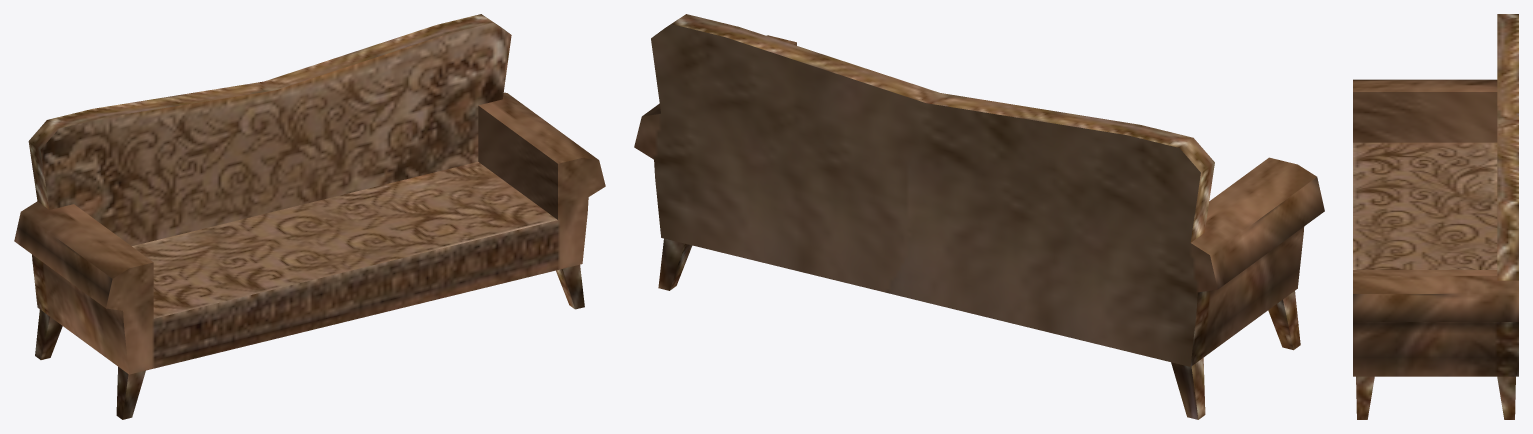
File: Armchair_08-col.glb
The picture shows the model from 3 angles, left to right: view 1: azimuth 30°, elevation 25°; view 2: azimuth 150°, elevation 25°; view 3: azimuth 270°, elevation 25°; orthographic projection. The views are drawn at different scales.
Visible parts, largest first — view 1: Armchair_08-col; view 2: Armchair_08-col; view 3: Armchair_08-col.
Boxes of the visible parts, <box> form: Armchair_08-col: <box>14,14,605,419</box>; Armchair_08-col: <box>634,14,1324,419</box>; Armchair_08-col: <box>1353,14,1518,419</box>.
Size of the model in its own units: 2.81 by 1.24 by 0.8927.
1 material, 1 textured.
